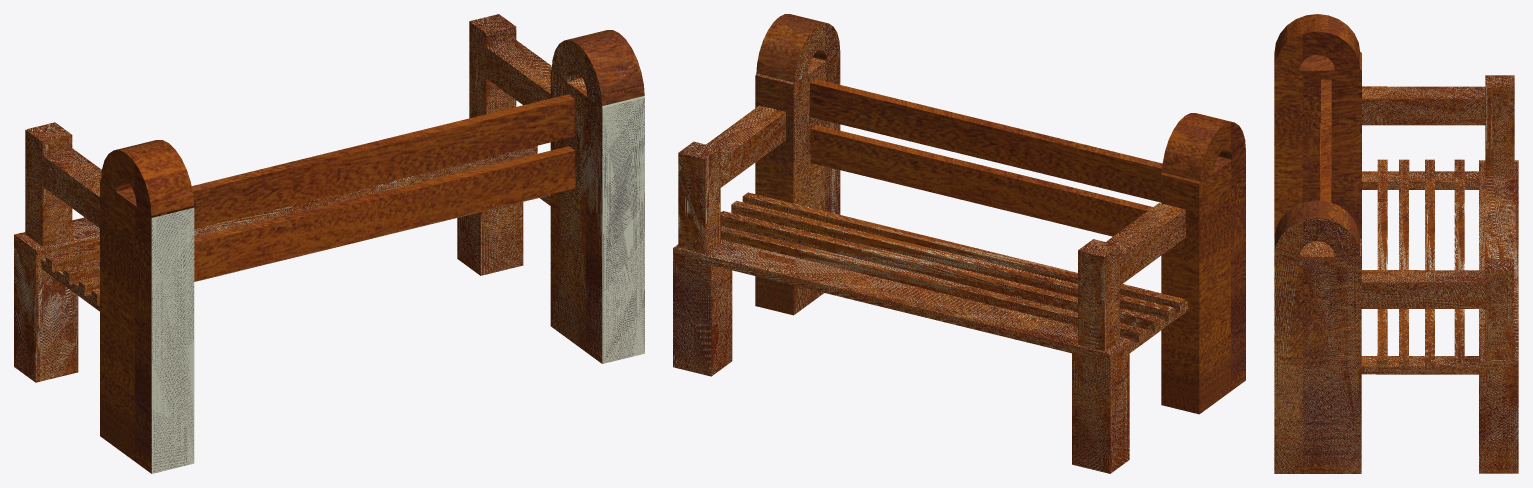
3 renders of one model, left to right at view 1: azimuth 30°, elevation 25°; view 2: azimuth 150°, elevation 25°; view 3: azimuth 270°, elevation 25°, orthographic. The views are drawn at different scales.
Visible parts, largest first — view 1: mesh1_mesh1-geometry; view 2: mesh1_mesh1-geometry, mesh2_mesh2-geometry, mesh3_mesh3-geometry; view 3: mesh1_mesh1-geometry, mesh3_mesh3-geometry, mesh2_mesh2-geometry.
Boxes of the visible parts, left/top/right/bottom form: mesh1_mesh1-geometry: left=14, top=14, right=644, bottom=473; mesh1_mesh1-geometry: left=673, top=14, right=1245, bottom=473; mesh2_mesh2-geometry: left=720, top=211, right=1159, bottom=331; mesh3_mesh3-geometry: left=731, top=201, right=1173, bottom=321; mesh1_mesh1-geometry: left=1274, top=14, right=1518, bottom=473; mesh3_mesh3-geometry: left=1399, top=159, right=1409, bottom=369; mesh2_mesh2-geometry: left=1425, top=159, right=1434, bottom=369.
Bounding box in the file's own units: 0.7891 × 0.4617 × 0.3994.
